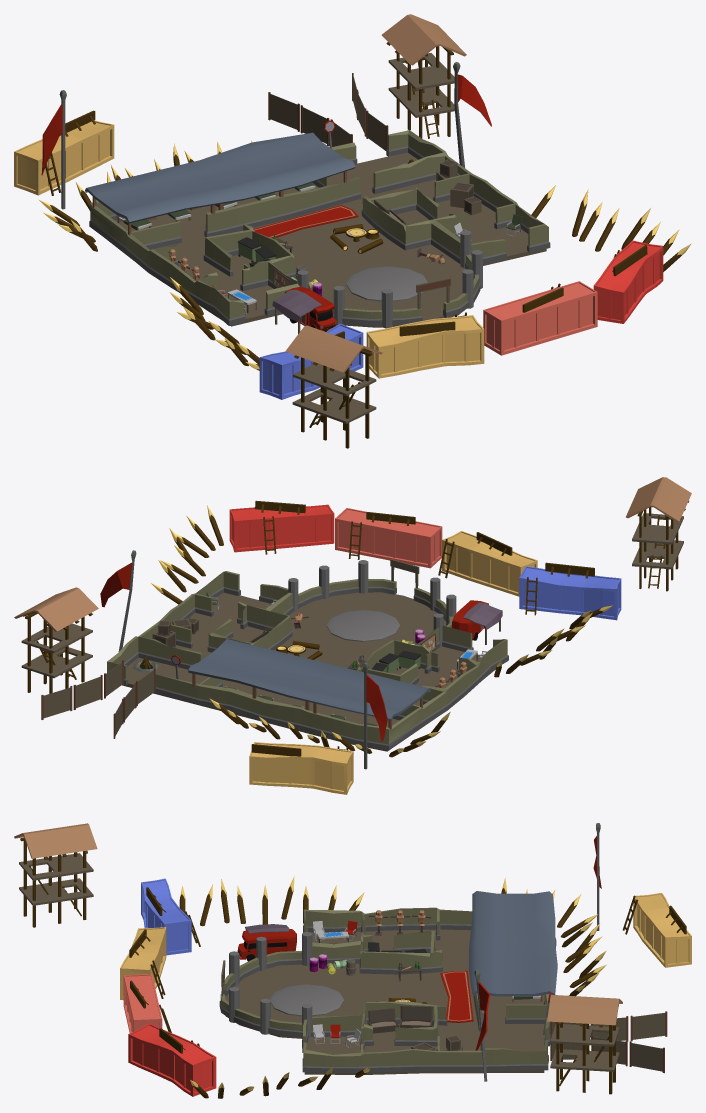
File: camp.fbx
3 views of the same model, one above another, from view 1: azimuth 30°, elevation 25°; view 2: azimuth 150°, elevation 25°; view 3: azimuth 270°, elevation 25° (orthographic). The views are drawn at different scales.
Visible parts, largest first — view 1: Plane.013, Cube.039, Plane.015, Cube.073, Cube.042, Cube.041, Cube.022, Cylinder.013, Circle.001, Cylinder.040, Cylinder.026, Cylinder.014 (+9 smaller); view 2: Plane.013, Cube.039, Plane.015, Cube.073, Cube.041, Cube.022, Cube.042, Circle.001, Cylinder.013, Cylinder.026, Cylinder.029, Cylinder.040 (+7 smaller); view 3: Plane.013, Plane.015, Cube.039, Cube.073, Cube.042, Cube.041, Cube.022, Cylinder.013, Circle.001, Cylinder.029, Cylinder.014, Cylinder.040 (+10 smaller).
Boxes of the visible parts, bbox=[...] form: Plane.013: bbox=[89, 130, 550, 325]; Cube.039: bbox=[259, 240, 663, 399]; Plane.015: bbox=[107, 152, 546, 327]; Cube.073: bbox=[85, 132, 355, 235]; Cube.042: bbox=[285, 325, 382, 448]; Cube.041: bbox=[381, 14, 466, 138]; Cube.022: bbox=[14, 110, 114, 195]; Cylinder.013: bbox=[297, 230, 482, 328]; Circle.001: bbox=[346, 266, 427, 301]; Cylinder.040: bbox=[272, 286, 336, 333]; Cylinder.026: bbox=[531, 185, 691, 271]; Cylinder.014: bbox=[169, 277, 259, 370]; Plane.013: bbox=[107, 571, 508, 750]; Cube.039: bbox=[229, 500, 621, 620]; Plane.015: bbox=[123, 592, 495, 751]; Cube.073: bbox=[188, 639, 430, 729]; Cube.041: bbox=[14, 587, 98, 693]; Cube.022: bbox=[249, 742, 353, 794]; Cube.042: bbox=[626, 477, 691, 591]; Circle.001: bbox=[326, 610, 400, 641]; Cylinder.013: bbox=[288, 560, 456, 646]; Cylinder.026: bbox=[151, 505, 223, 604]; Cylinder.029: bbox=[209, 698, 450, 757]; Cylinder.040: bbox=[452, 600, 502, 644]; Plane.013: bbox=[219, 907, 556, 1073]; Plane.015: bbox=[225, 929, 545, 1074]; Cube.039: bbox=[120, 878, 216, 1096]; Cube.073: bbox=[469, 891, 557, 996]; Cube.042: bbox=[14, 823, 97, 927]; Cube.041: bbox=[547, 994, 622, 1094]; Cube.022: bbox=[622, 892, 691, 967]; Cylinder.013: bbox=[229, 932, 312, 1037]; Circle.001: bbox=[270, 984, 344, 1016]; Cylinder.029: bbox=[501, 878, 606, 996]; Cylinder.014: bbox=[179, 876, 364, 926]; Cylinder.040: bbox=[237, 924, 296, 961].
Size of the model in its own units: 5205 by 1269 by 7126.
